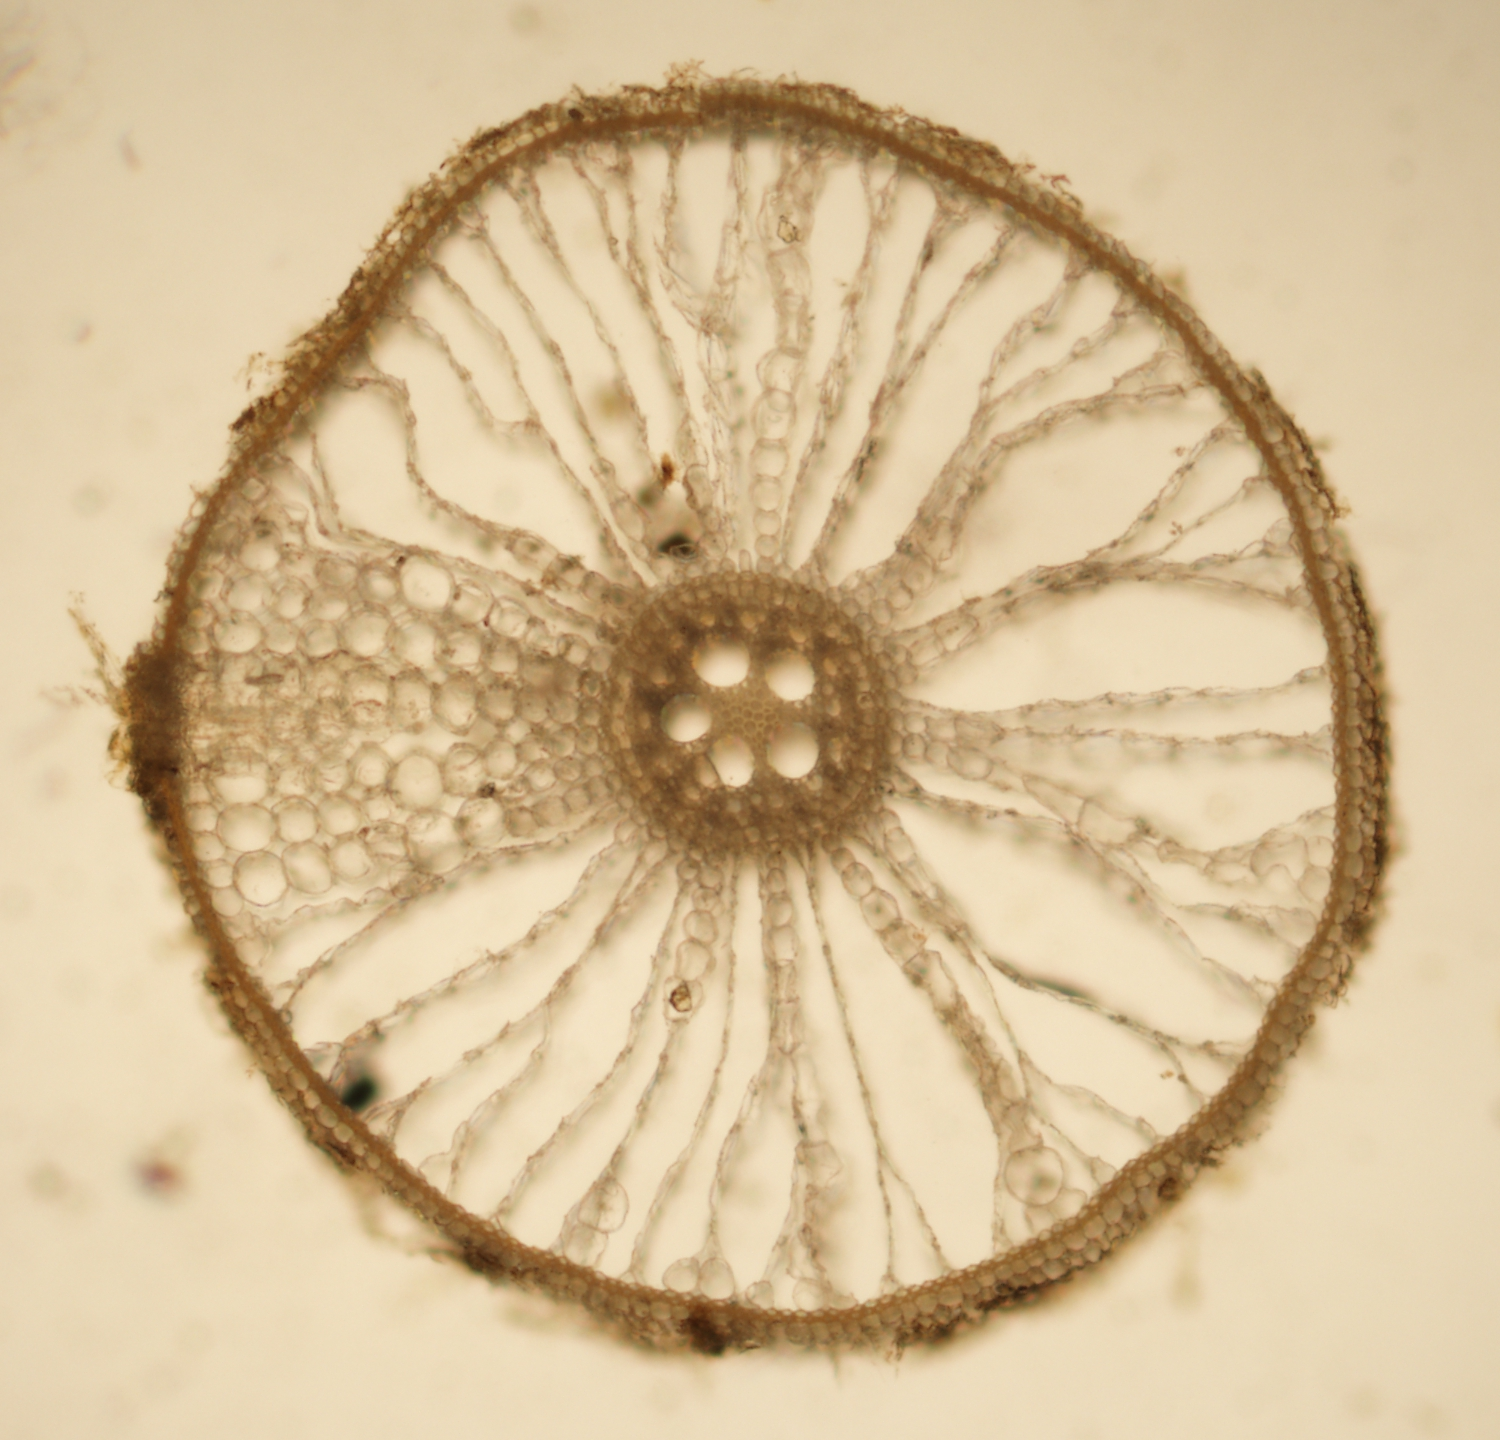lm: (691, 735, 755, 788), (691, 630, 750, 686), (766, 722, 820, 778), (763, 648, 816, 701), (659, 693, 712, 742)
